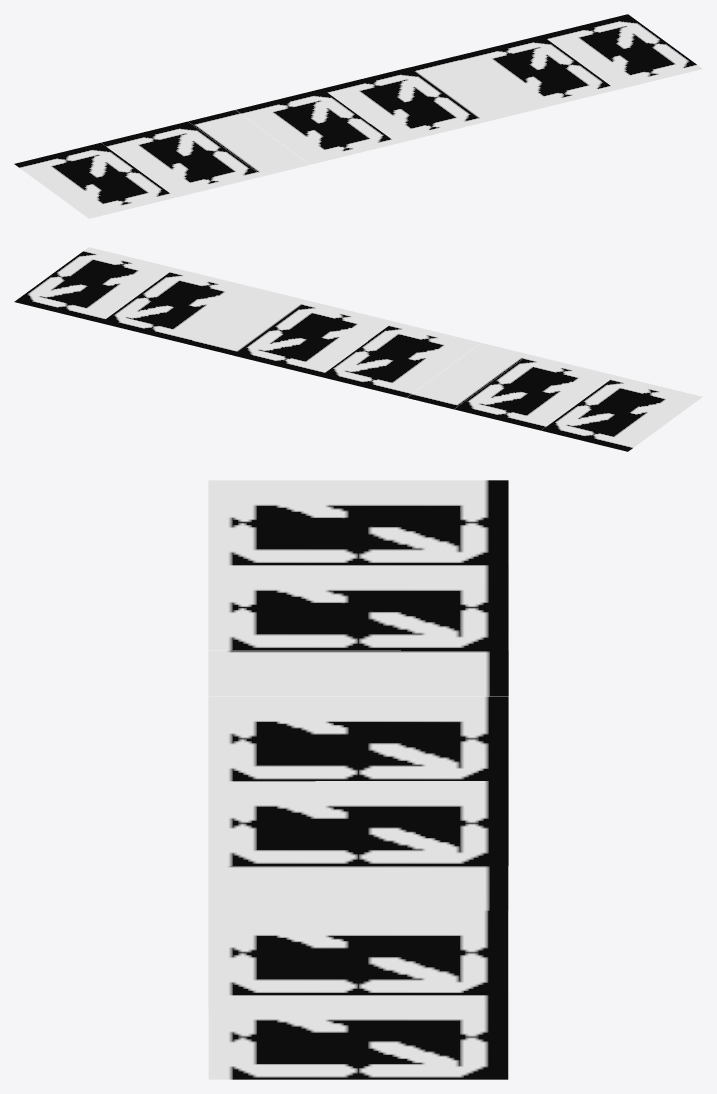
The model's file is Neitri's Clock V2 C.fbx.
3 views of the same model, one above another, from view 1: azimuth 30°, elevation 25°; view 2: azimuth 150°, elevation 25°; view 3: azimuth 270°, elevation 25° (orthographic). The views are drawn at different scales.
Parts seen in each view (by area): view 1: clock; view 2: clock; view 3: clock.
Part boxes in pixels (bbox=[...]): clock: bbox=[14, 14, 702, 218]; clock: bbox=[14, 247, 702, 451]; clock: bbox=[208, 480, 508, 1079].
Bounding box in the file's own units: 5.45 × 0.000408 × 1.16.
Materials: 1 (1 with a texture image).
